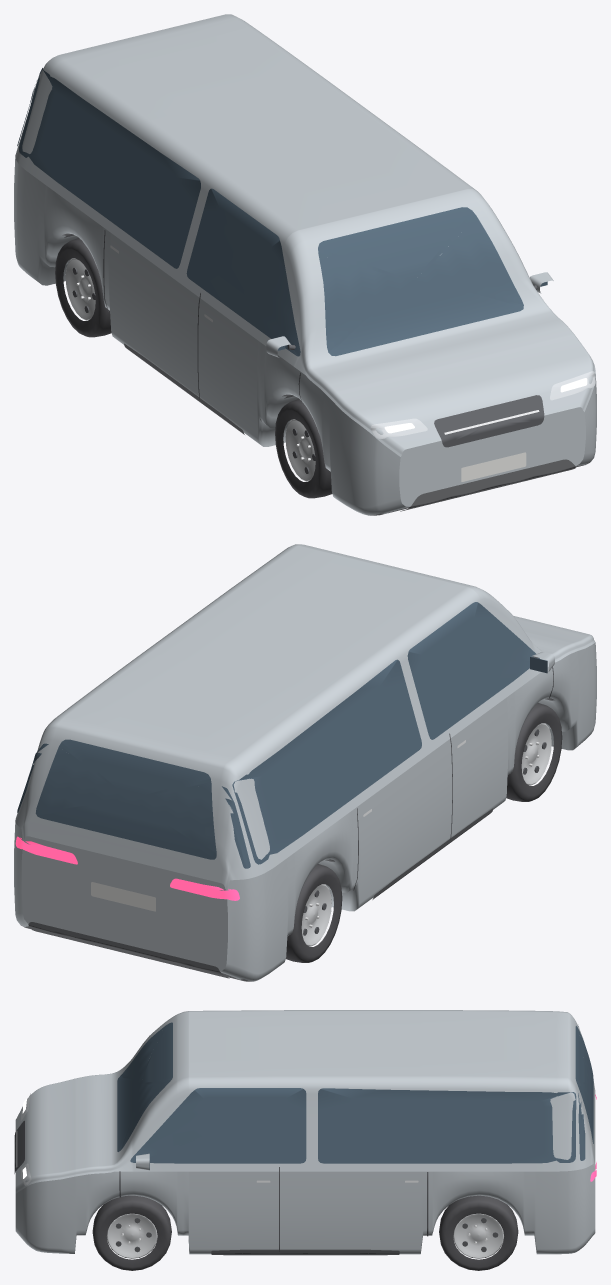
The model's file is car-minivan.glb.
3 views of the same model, one above another, from view 1: azimuth 30°, elevation 25°; view 2: azimuth 150°, elevation 25°; view 3: azimuth 270°, elevation 25° (orthographic). The views are drawn at different scales.
Visible parts, largest first — view 1: car-minivan; view 2: car-minivan; view 3: car-minivan.
Boxes of the visible parts, bbox=[...] form: car-minivan: bbox=[14, 14, 596, 515]; car-minivan: bbox=[14, 544, 596, 981]; car-minivan: bbox=[14, 1010, 596, 1270].
Bounding box in the file's own units: 2.26 × 1.78 × 5.13.
